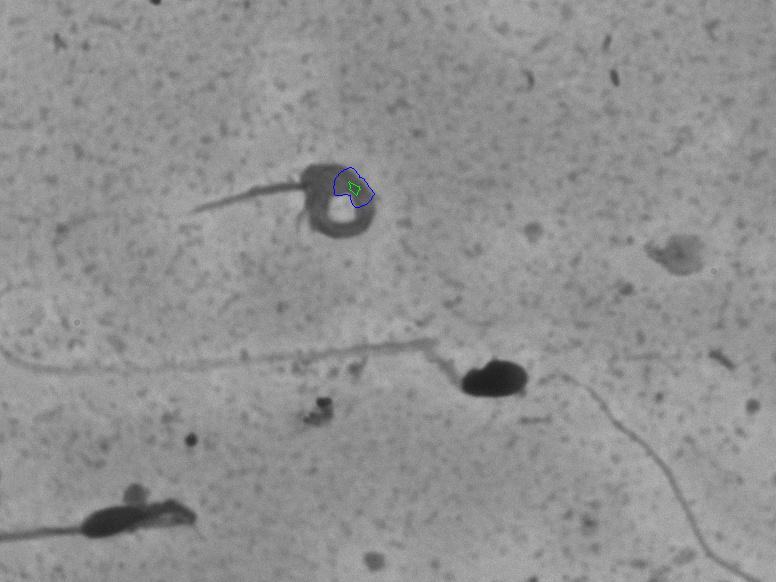Abnormal: (2, 273, 543, 455), (8, 465, 241, 567)
